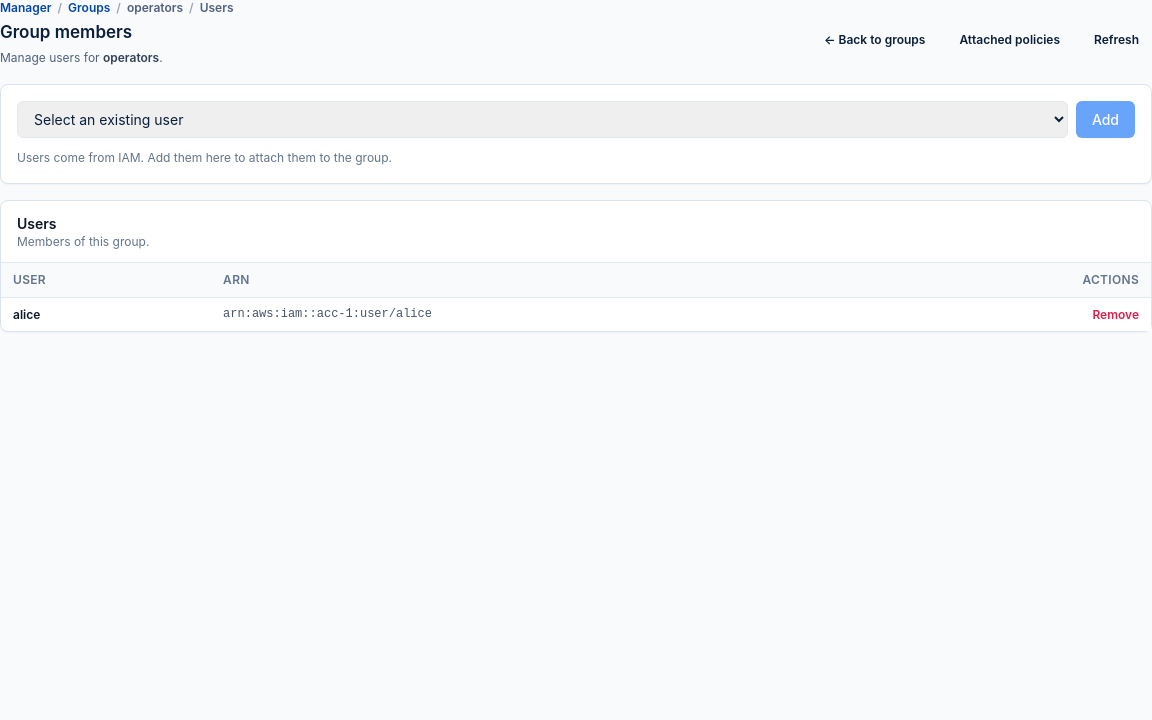
Test: ManagerGroupUsersPage › renders group members through the shared responsive table
Expected: the text "alice" is shown, [1,297,211,331]
What coordinates should you click on to do the following:
click the button "Remove"
I would click on:
 (1116, 315)
Its box is [1092,307,1139,323].
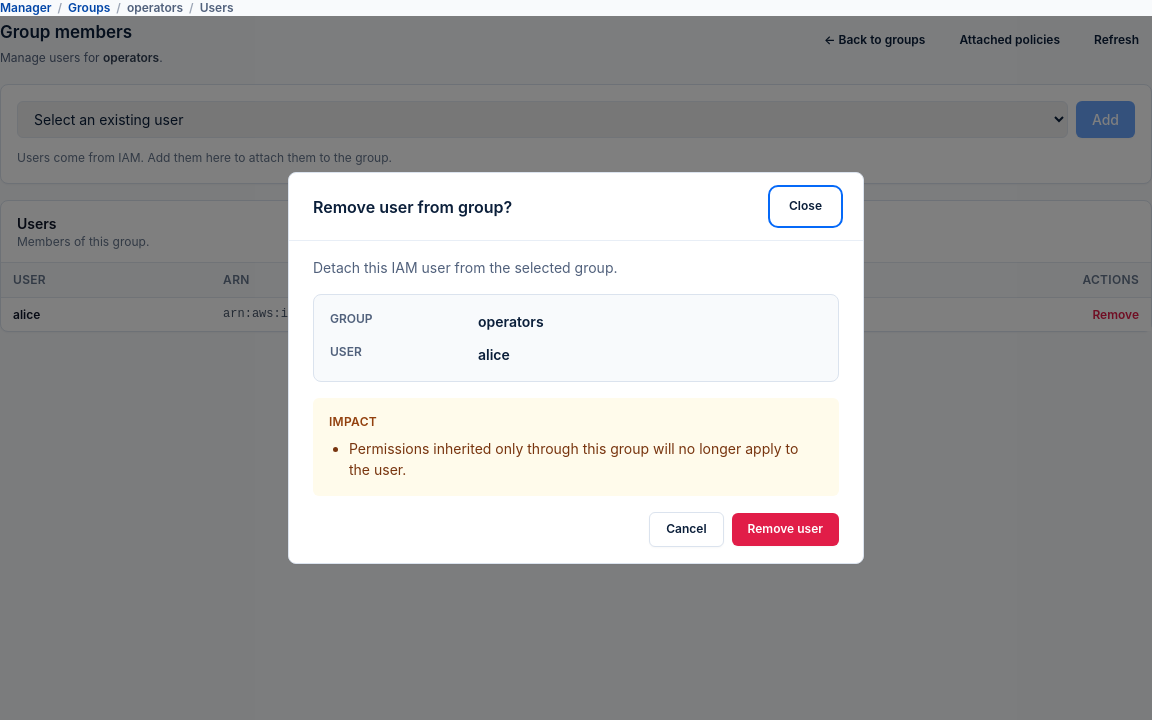
Now the heading "Remove user from group?" is shown, box [313,196,512,218]
Now the list item "Permissions inherited only through this group will no longer apply to the user." is shown, box [349,438,823,480]
